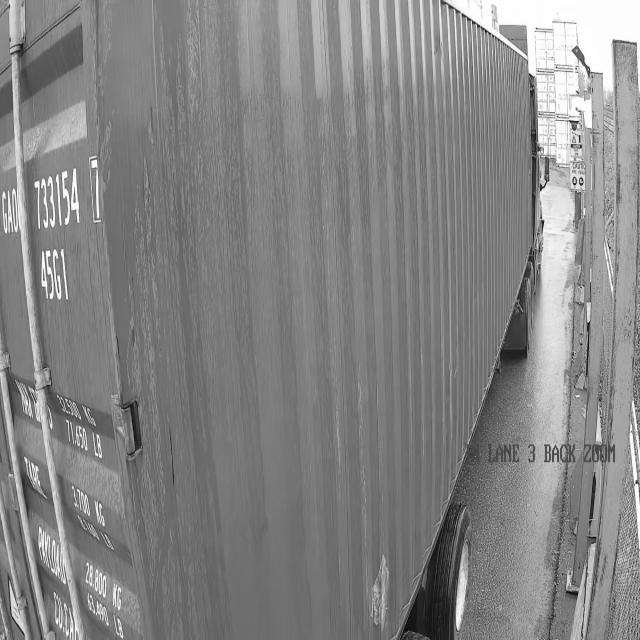container_number: (0, 178, 100, 323)
other_container_info: (14, 374, 139, 624)
truck_with_container: (0, 0, 546, 639)
